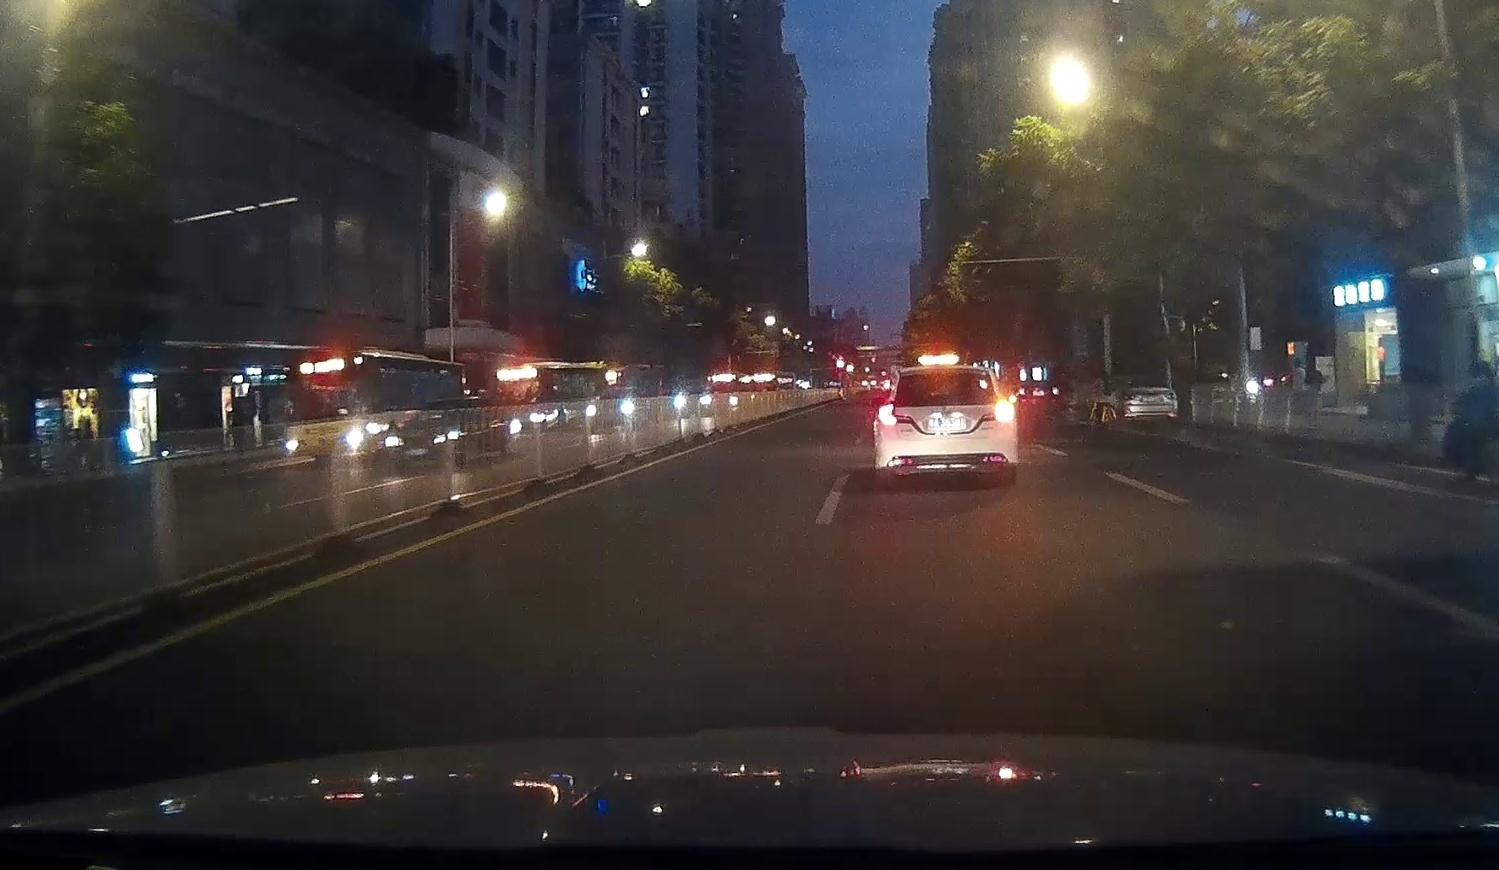L_light: (878, 403, 898, 425)
R_light: (995, 399, 1016, 422)
T_light: (934, 373, 960, 379)
night-no: (874, 364, 1019, 485)
